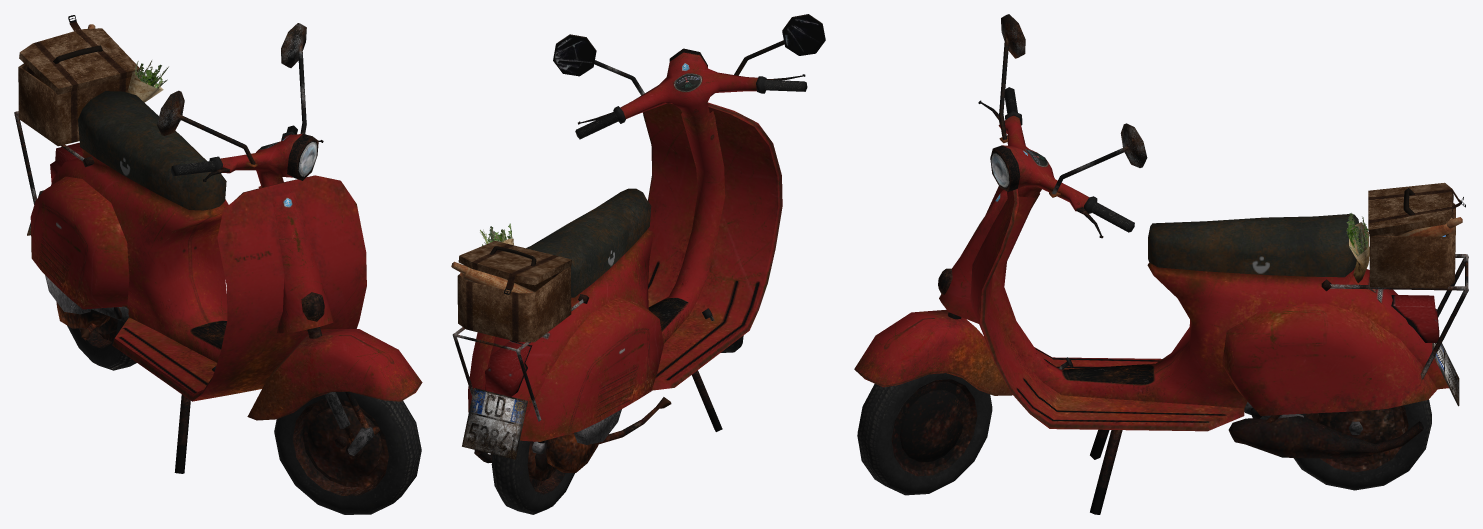
File: Vespa_2.obj
The picture shows the model from 3 angles, left to right: view 1: azimuth 30°, elevation 25°; view 2: azimuth 150°, elevation 25°; view 3: azimuth 270°, elevation 25°; orthographic projection. The views are drawn at different scales.
Visible parts, largest first — view 1: Vespa; view 2: Vespa; view 3: Vespa.
Part boxes in pixels (x1,y1,x2,y2): Vespa: [14, 15, 422, 514]; Vespa: [451, 14, 825, 514]; Vespa: [854, 14, 1468, 514].
Size of the model in its own units: 84.03 by 155 by 206.
Materials: 1 (1 with a texture image).
